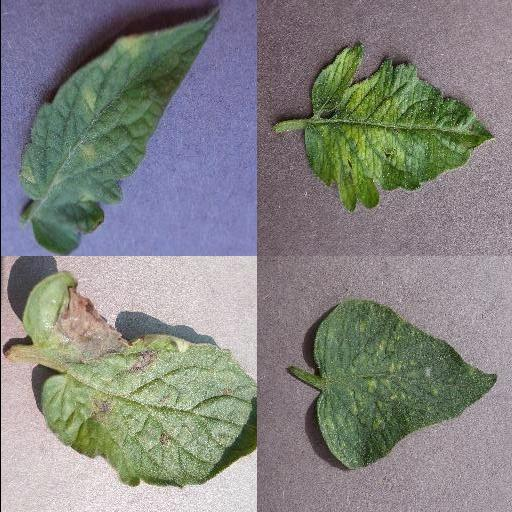Late Blight: (19, 270, 256, 488)
Leaf Mold: (19, 7, 221, 256)
Mosaic Virus: (304, 40, 496, 214)
Spider Mites: (313, 302, 497, 470)
